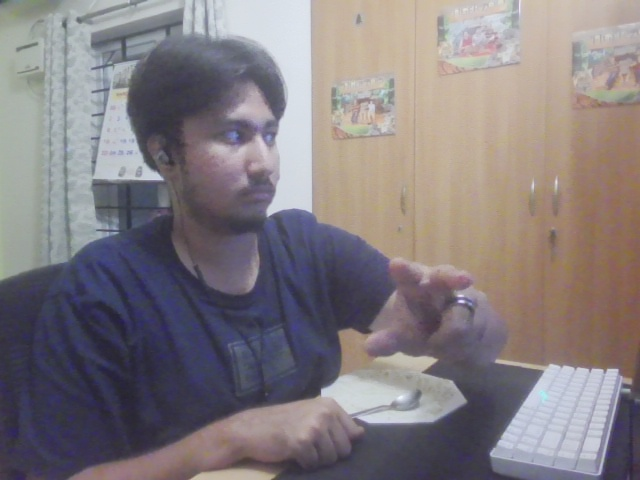no: (358, 251, 510, 389)
